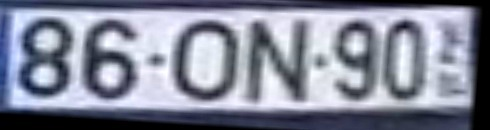0: (385, 17, 437, 104)
6: (78, 16, 144, 106)
8: (16, 15, 80, 101)
9: (331, 15, 386, 105)
N: (242, 16, 317, 108)
O: (169, 17, 247, 104)
